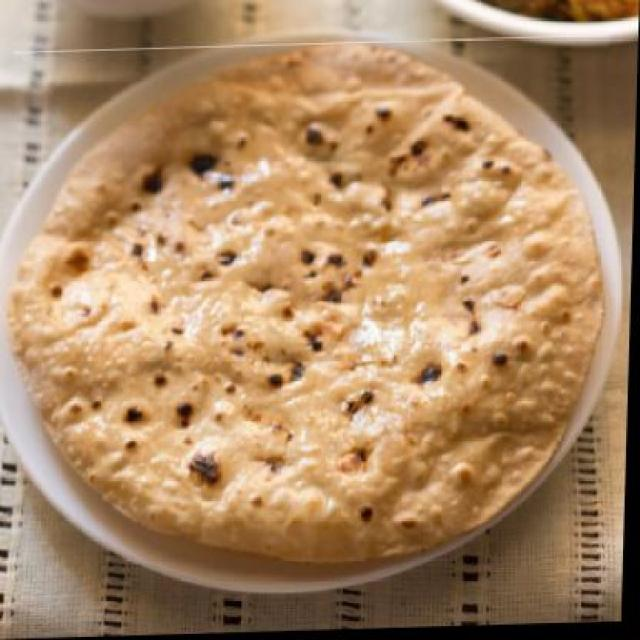chapati: (2, 38, 612, 571)
